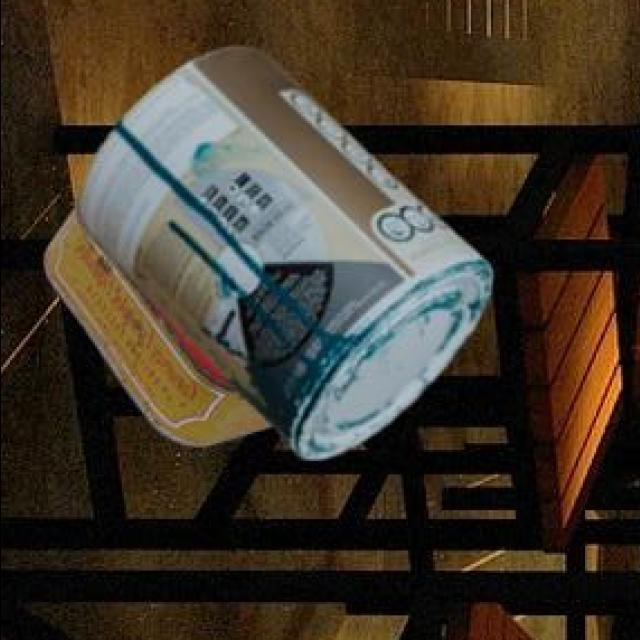logam: (79, 50, 496, 462), (46, 209, 274, 451)
